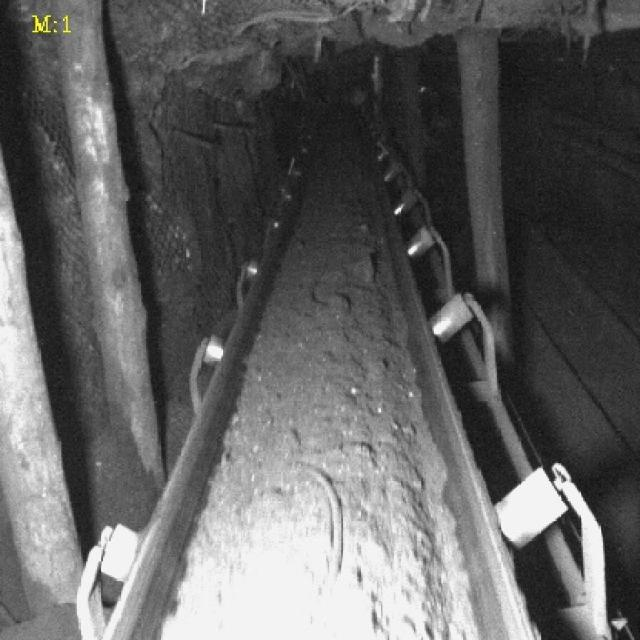bolt: (302, 465, 348, 603)
large_sized_coal: (346, 255, 379, 288)
